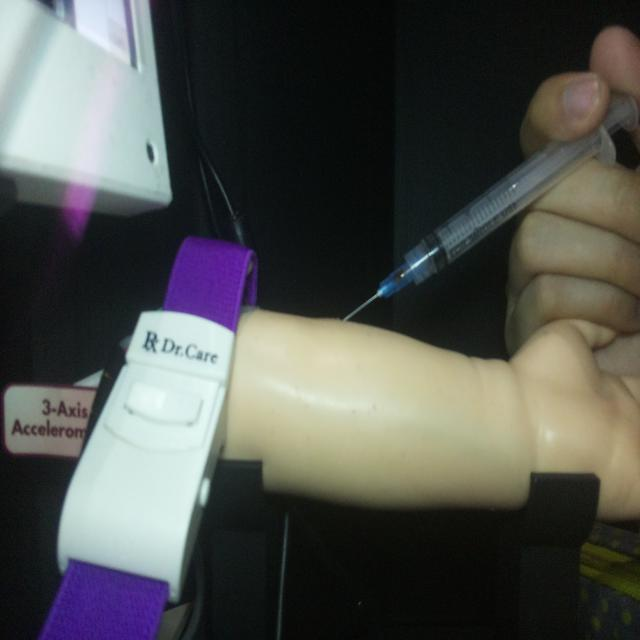29 degrees: (339, 88, 636, 324)
